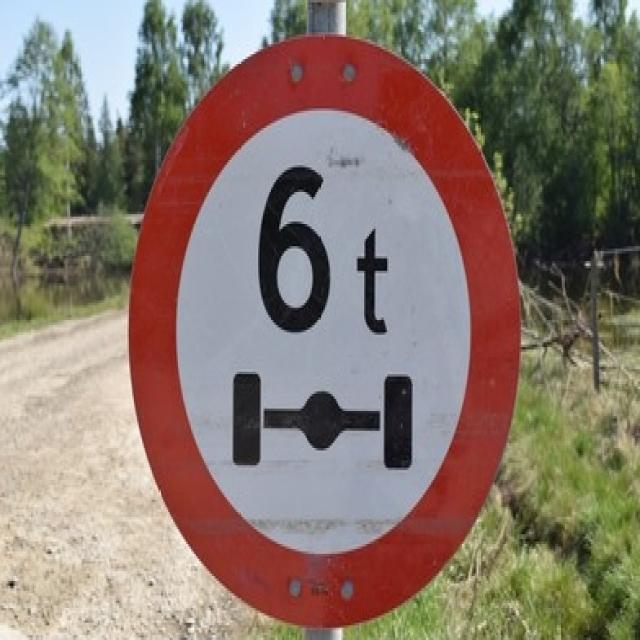axle load limit: (128, 39, 523, 627)
